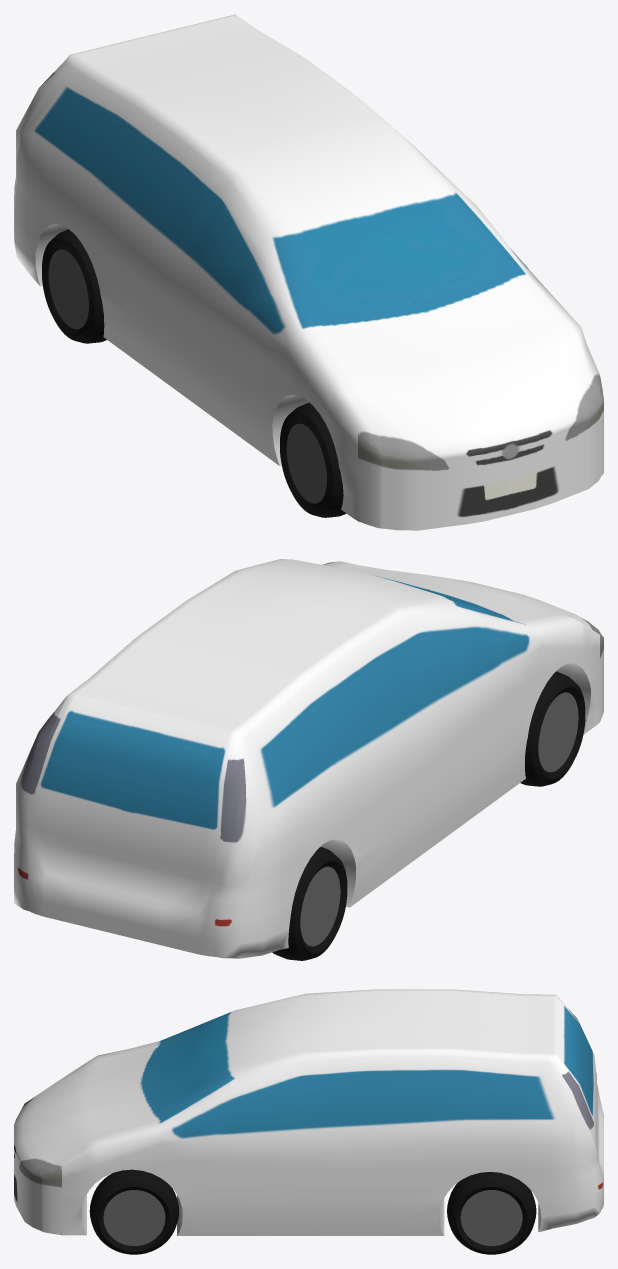
The model's file is prea3-2tire5.fbx.
3 renders of one model, top to bottom at view 1: azimuth 30°, elevation 25°; view 2: azimuth 150°, elevation 25°; view 3: azimuth 270°, elevation 25°, orthographic. The views are drawn at different scales.
Visible parts, largest first — view 1: Body, FRT, RRT, RRW, FRW; view 2: Body, FRT, RRT, RRW, FRW; view 3: Body, FLT, RLT, FLW, RLW.
Part boxes in pixels (box(x1,y1,x2,y2)): Body: box(14, 14, 603, 530); FRT: box(280, 402, 346, 517); RRT: box(42, 229, 106, 343); RRW: box(48, 249, 88, 329); FRW: box(286, 423, 326, 503); Body: box(14, 559, 603, 958); FRT: box(520, 671, 585, 786); RRT: box(272, 847, 347, 960); RRW: box(300, 866, 340, 946); FRW: box(538, 692, 578, 772); Body: box(14, 989, 603, 1235); FLT: box(89, 1169, 178, 1254); RLT: box(447, 1172, 536, 1254); FLW: box(103, 1190, 165, 1245); RLW: box(460, 1190, 522, 1245).
Bounding box in the file's own units: 177 × 166 × 462.
Materials: 3 (1 with a texture image).
